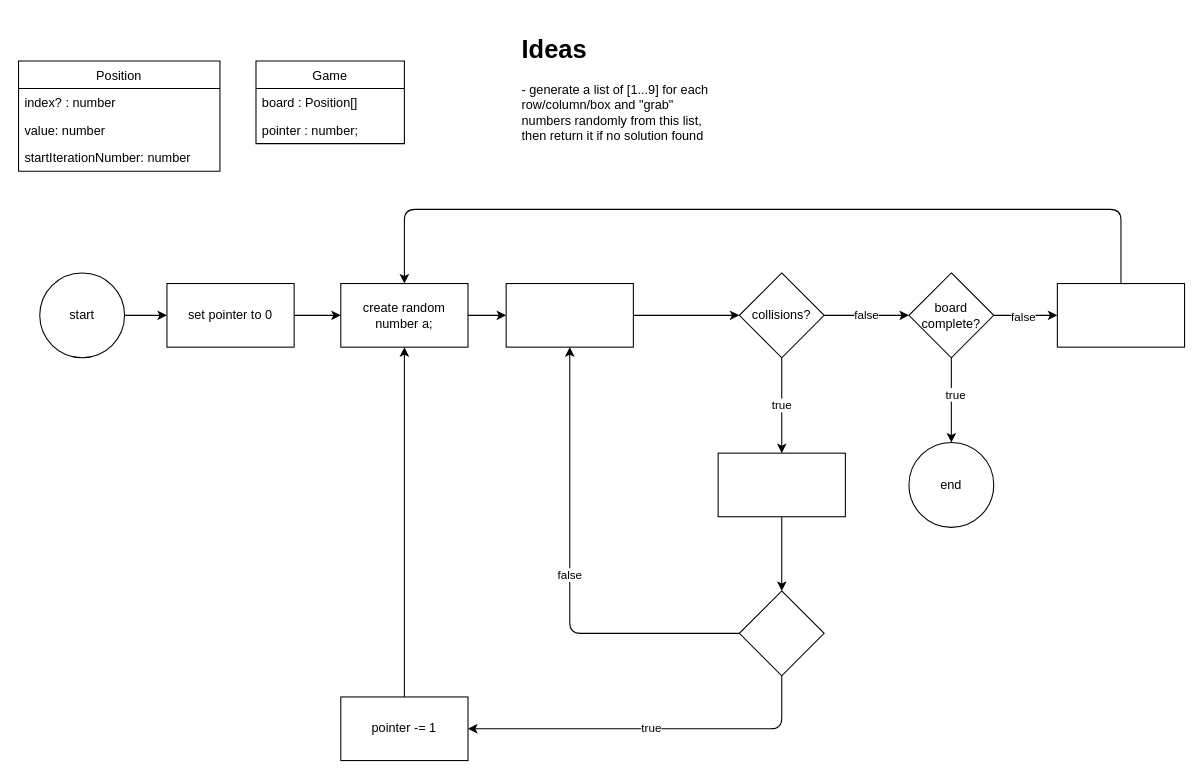
This 1203x779 diagram has some shape labels left out. Here are the shapes that lost their labels. From the top down, the centre of each, then its label:
At pixel 569 314: "set number at pointer position & startIterationumber to a".
At pixel 1120 314: "pointer += 1".
At pixel 781 484: "try the next number of this position".
At pixel 781 633: "number == startIterationNumber?".
